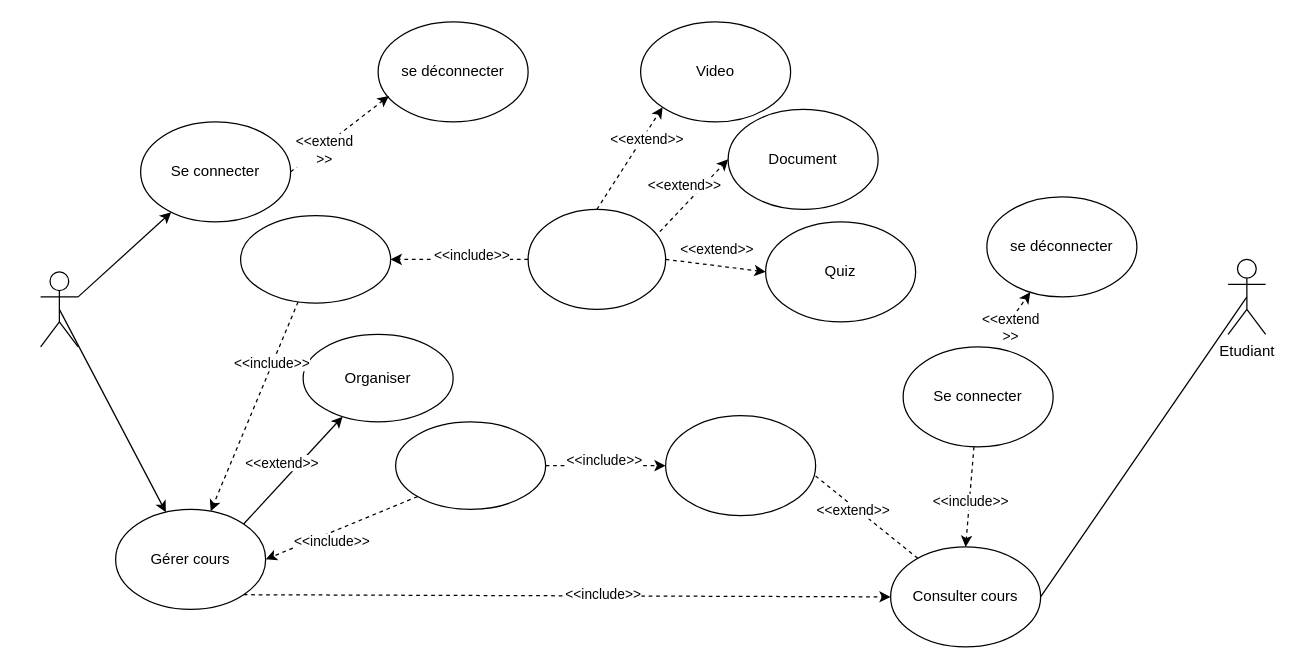
This 1296x669 diagram has some shape labels left out. Here are the shapes that lost their labels. From the top down, the centre of each, then its label:
the point at 315,258: Créer
the point at 596,258: Ajouter contenu éducatif
the point at 58,309: Enseignant
the point at 470,465: Diffuser
the point at 740,465: Etre notifié si modifications
